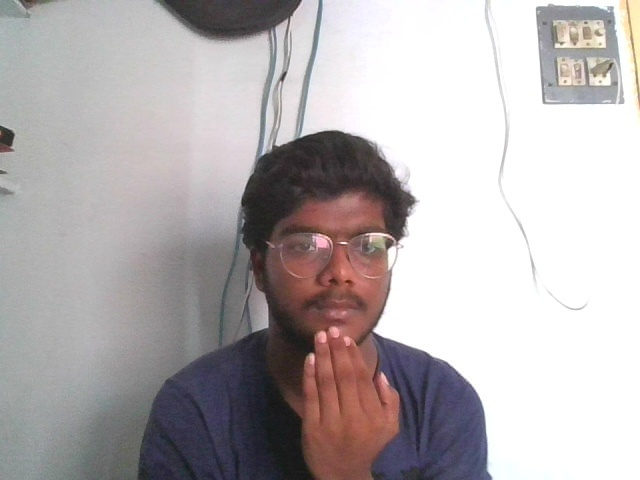Thanks: (292, 322, 402, 468)
